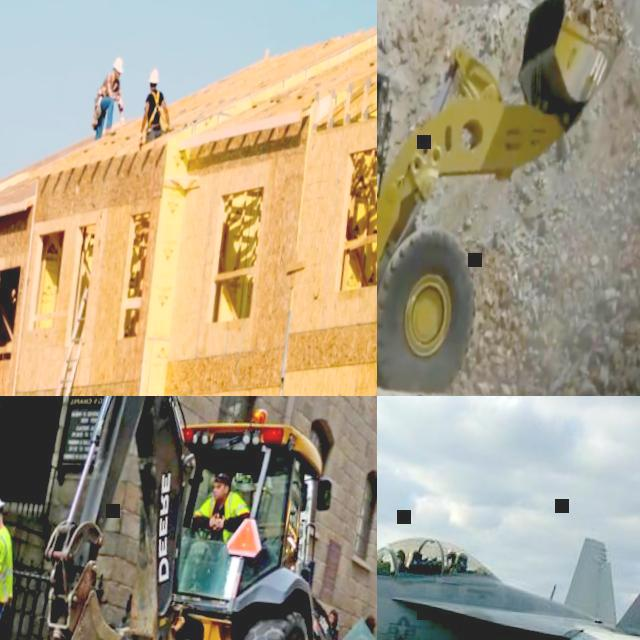helmet: (112, 58, 124, 74), (148, 70, 160, 86)
machinery: (377, 0, 633, 396), (19, 396, 377, 640)
no_helmet: (214, 470, 233, 486), (364, 615, 377, 626), (329, 609, 341, 619)
no_mask: (212, 490, 225, 503), (114, 74, 119, 80)
no_vest: (146, 89, 163, 128), (98, 72, 119, 99), (330, 625, 340, 640)
person: (192, 469, 254, 544), (90, 55, 133, 142), (138, 68, 176, 148), (323, 608, 340, 640), (363, 613, 377, 634)
vest: (200, 490, 242, 544), (0, 523, 20, 614)
